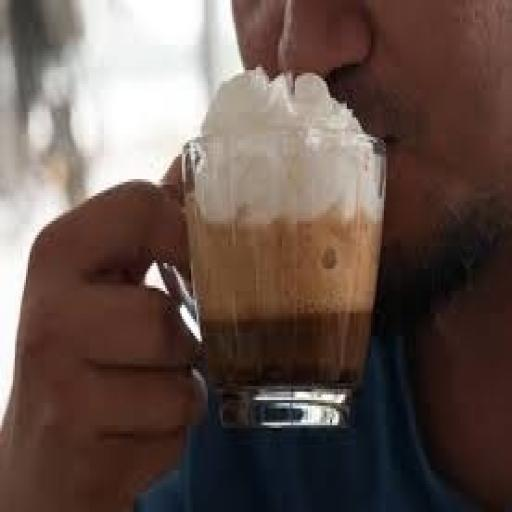drinking: (176, 64, 388, 434)
